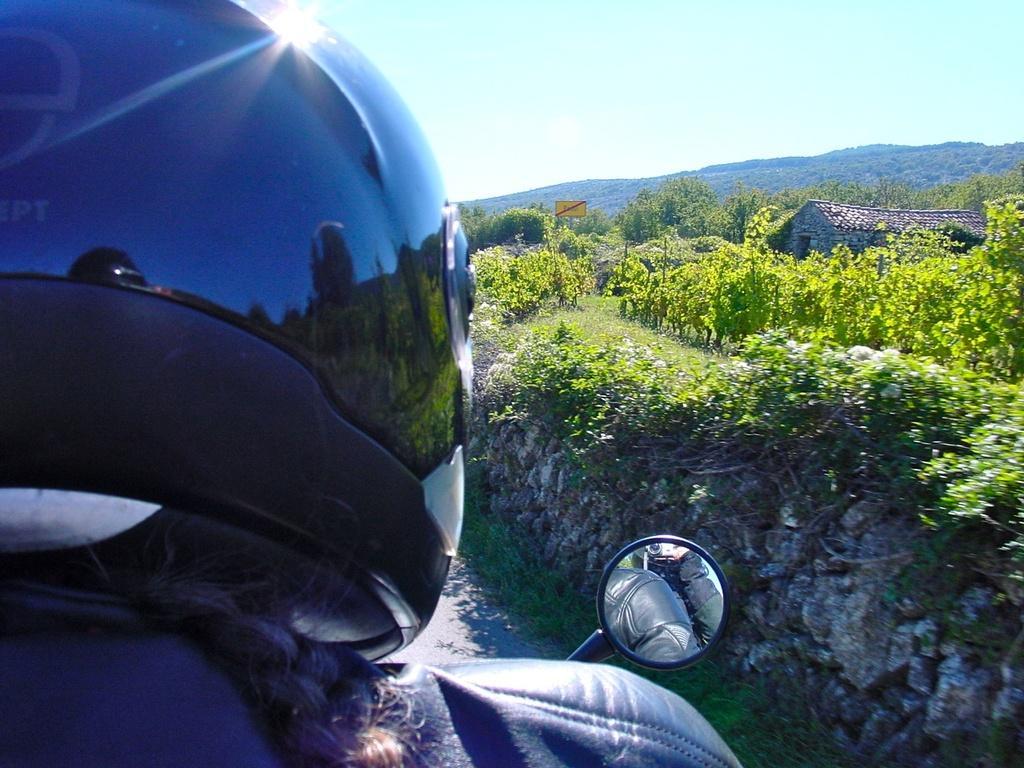helmet: (0, 0, 474, 665)
